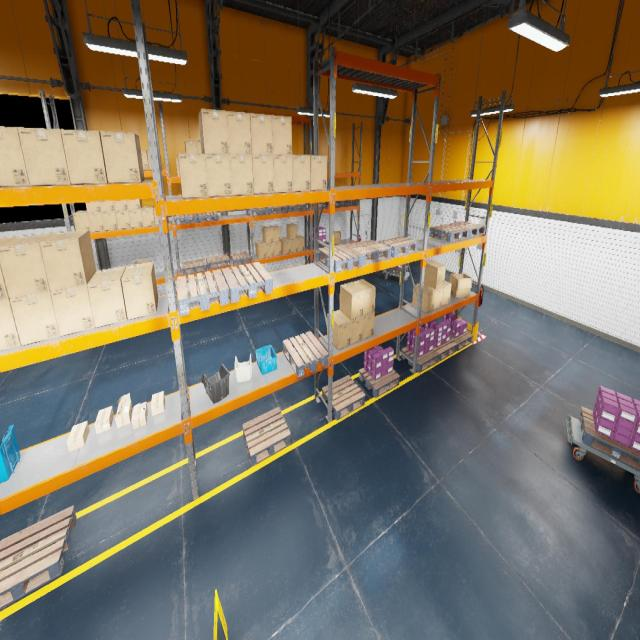box: (0, 233, 55, 298), (40, 229, 96, 291), (18, 128, 71, 186), (9, 292, 60, 346), (61, 129, 108, 184), (87, 266, 127, 328), (50, 285, 95, 336), (100, 131, 144, 183), (121, 262, 158, 320), (0, 126, 30, 187), (198, 109, 229, 154), (178, 153, 208, 198), (205, 154, 232, 197), (226, 110, 252, 154), (0, 298, 21, 351), (0, 236, 17, 299), (229, 155, 254, 195), (250, 113, 273, 155), (327, 310, 351, 350), (340, 282, 364, 319), (352, 279, 376, 315), (252, 154, 274, 193), (340, 310, 363, 345), (272, 115, 292, 155), (273, 155, 293, 193), (412, 283, 436, 313), (67, 421, 89, 452), (292, 155, 310, 191), (424, 260, 446, 288), (448, 273, 472, 298), (115, 393, 132, 428), (310, 155, 327, 190), (94, 406, 114, 434), (424, 284, 444, 310), (132, 401, 148, 429), (73, 210, 90, 232), (151, 391, 165, 416), (362, 312, 374, 339), (101, 211, 118, 230), (88, 212, 104, 232), (115, 210, 131, 229), (147, 150, 162, 170), (128, 209, 143, 228), (141, 206, 155, 226), (442, 280, 451, 306), (286, 223, 298, 240), (262, 226, 273, 244), (270, 225, 281, 242), (255, 242, 266, 258), (280, 237, 290, 254), (184, 140, 197, 153), (141, 150, 149, 170), (287, 237, 297, 252), (127, 199, 142, 209), (86, 202, 101, 212), (114, 200, 128, 210), (100, 201, 114, 211), (266, 243, 274, 257), (274, 241, 281, 256), (131, 260, 151, 265), (298, 236, 304, 252), (334, 231, 341, 244), (154, 206, 158, 225), (176, 158, 180, 177), (196, 140, 201, 153)
pallets: (0, 506, 77, 609), (579, 407, 640, 471), (243, 407, 290, 466), (177, 269, 229, 316), (283, 331, 328, 378), (222, 262, 272, 303), (322, 375, 365, 420), (318, 244, 364, 273), (359, 368, 400, 398), (345, 240, 391, 264), (401, 347, 439, 372), (378, 236, 418, 257), (430, 224, 470, 242), (449, 221, 486, 238), (433, 339, 457, 361), (182, 258, 207, 275), (450, 332, 472, 351), (206, 254, 230, 270), (230, 252, 250, 266), (175, 213, 198, 225), (386, 265, 408, 275), (197, 212, 218, 222), (249, 207, 270, 216), (308, 240, 328, 249), (268, 206, 288, 214), (286, 204, 306, 212), (324, 200, 344, 207), (344, 199, 358, 205)
